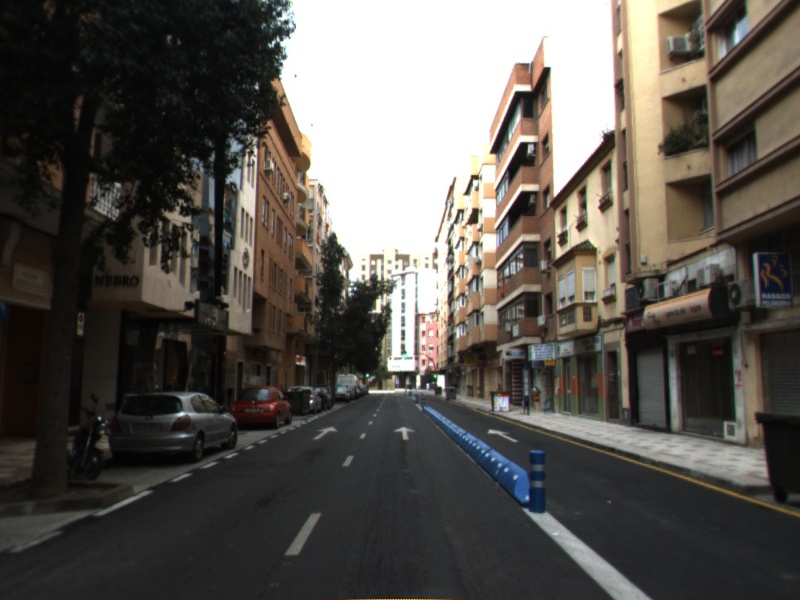STRAIGHT: (486, 427, 519, 443), (311, 425, 339, 441), (392, 425, 417, 441)
